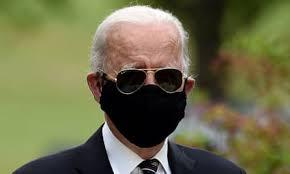mask: (100, 73, 190, 151)
sunglasses: (110, 61, 188, 100)
